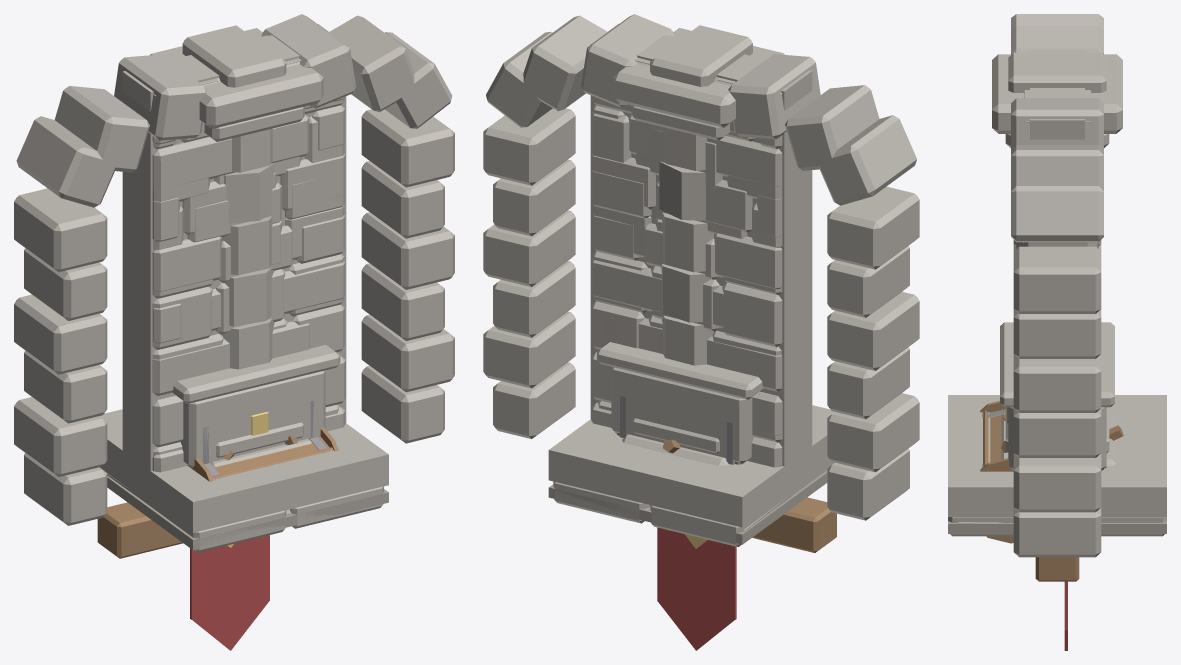
File: dungeon_kit.glb
The picture shows the model from 3 angles, left to right: view 1: azimuth 30°, elevation 25°; view 2: azimuth 150°, elevation 25°; view 3: azimuth 270°, elevation 25°; orthographic projection. The views are drawn at different scales.
Parts seen in each view (by area): view 1: door_arch, wall_0, ceiling, wall_1, pillar, altar, banner, floor_0, chest_lid, chest_body; view 2: door_arch, wall_0, ceiling, pillar, wall_1, altar, banner, floor_0; view 3: door_arch, ceiling, pillar, altar, wall_0, chest_lid, floor_0.
Part boxes in pixels (bbox=[...]): door_arch: bbox=[14, 14, 454, 525]; wall_0: bbox=[122, 24, 346, 493]; ceiling: bbox=[97, 409, 388, 558]; wall_1: bbox=[122, 35, 345, 472]; pillar: bbox=[150, 28, 323, 466]; altar: bbox=[172, 345, 340, 467]; banner: bbox=[190, 535, 269, 650]; floor_0: bbox=[107, 473, 388, 550]; chest_lid: bbox=[187, 427, 338, 481]; chest_body: bbox=[203, 400, 316, 464]; door_arch: bbox=[483, 14, 919, 520]; wall_0: bbox=[590, 24, 812, 480]; ceiling: bbox=[548, 405, 836, 552]; pillar: bbox=[613, 28, 784, 466]; wall_1: bbox=[591, 35, 812, 466]; altar: bbox=[589, 342, 814, 474]; banner: bbox=[657, 527, 736, 650]; floor_0: bbox=[548, 470, 827, 544]; door_arch: bbox=[1008, 14, 1106, 557]; ceiling: bbox=[948, 395, 1166, 581]; pillar: bbox=[992, 54, 1122, 465]; altar: bbox=[1000, 322, 1117, 470]; wall_0: bbox=[1023, 49, 1086, 246]; chest_lid: bbox=[980, 401, 1013, 543]; floor_0: bbox=[948, 521, 1166, 533].
Size of the model in its own units: 4.1 by 5.92 by 2.
